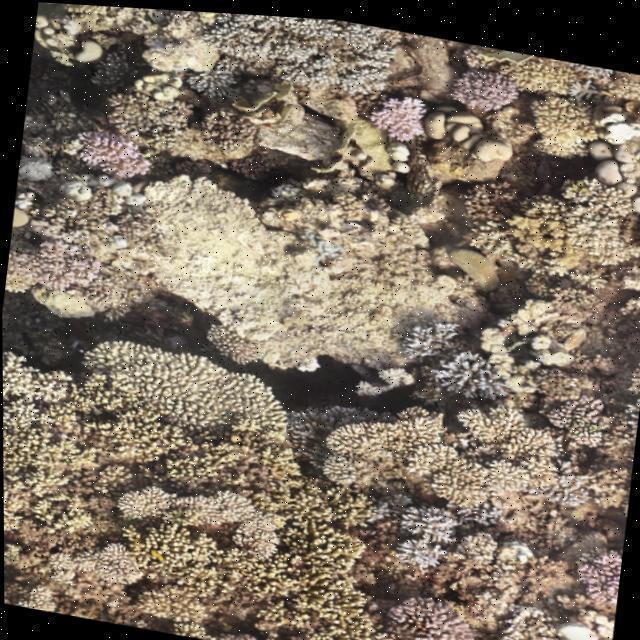Bleached Coral: (340, 292, 517, 414), (194, 9, 398, 104), (385, 484, 462, 585), (518, 451, 606, 501), (577, 91, 640, 144), (525, 600, 606, 640), (497, 526, 546, 564), (300, 352, 327, 375)
Healthy Coral: (0, 335, 293, 633), (0, 209, 134, 315), (547, 183, 637, 264), (379, 591, 485, 640), (66, 123, 156, 176), (559, 392, 622, 458), (456, 69, 524, 112), (378, 99, 429, 140)
